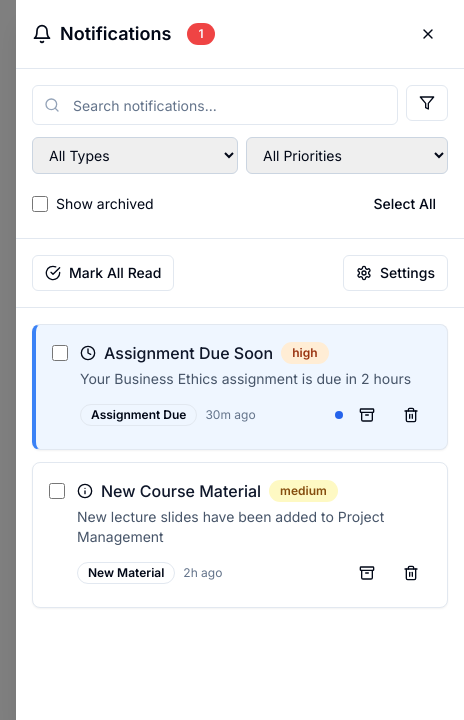
Scenario: NotificationCenter › should deselect all notifications
The image size is (464, 720).
# First select all
Click the button "Select All" at (405, 204), box top-left (361, 186), bottom-right (448, 222)
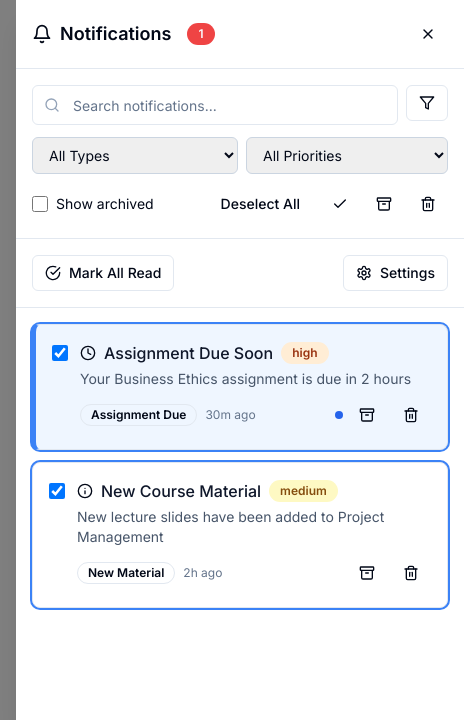
# Then deselect all
Click the button "Deselect All" at (260, 204), box top-left (209, 186), bottom-right (312, 222)
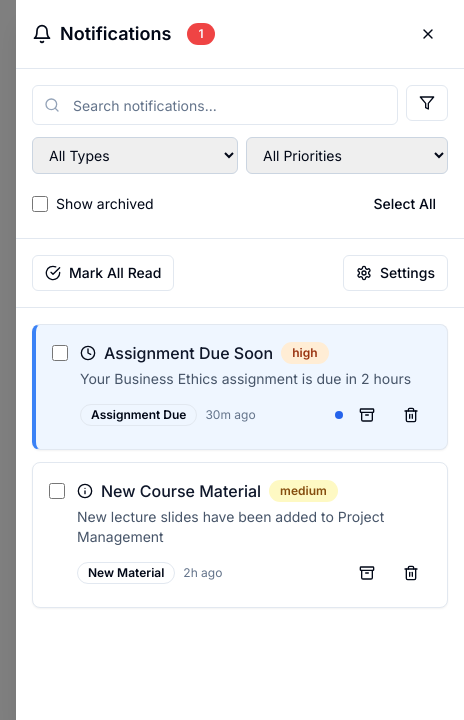
Check: the checkbox labelled "Show archived" is not checked, box top-left (32, 196), bottom-right (48, 212)
Check: the checkbox next to "Assignment Due Soon" is not checked, box top-left (52, 345), bottom-right (68, 361)
Check: the checkbox next to "New Course Material" is not checked, box top-left (49, 483), bottom-right (65, 499)
